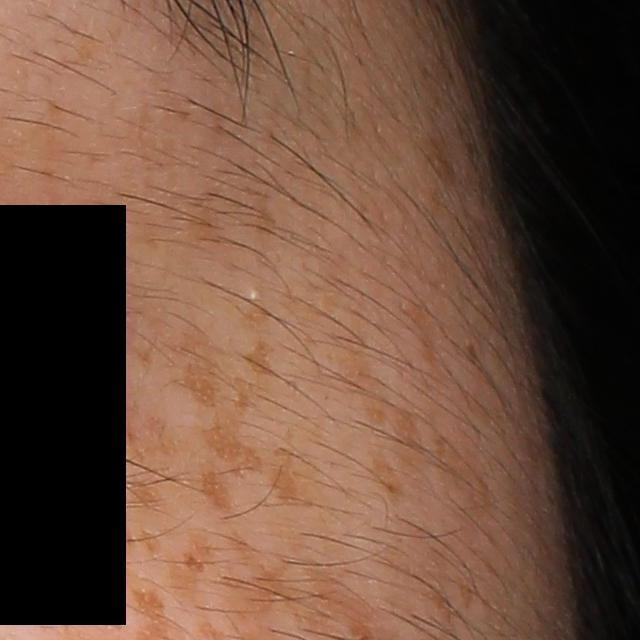comedo: (245, 287, 264, 306)
melasma: (135, 349, 266, 485), (337, 347, 426, 476), (431, 427, 497, 521), (153, 185, 232, 250), (265, 435, 325, 510), (364, 441, 409, 516), (401, 295, 438, 370), (196, 469, 237, 523), (238, 339, 278, 380)
